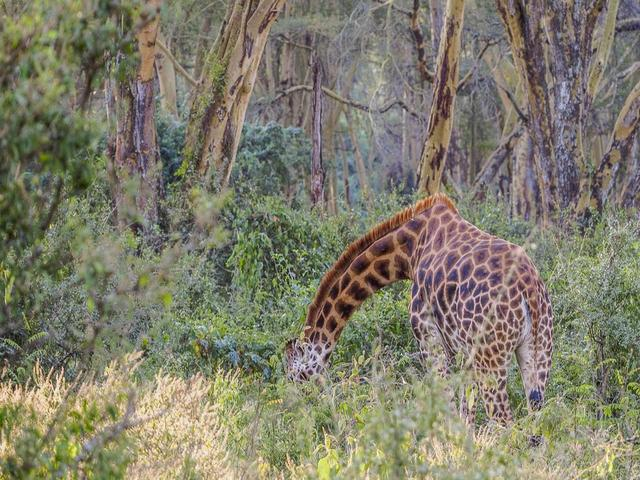giraffe: (231, 172, 613, 434)
